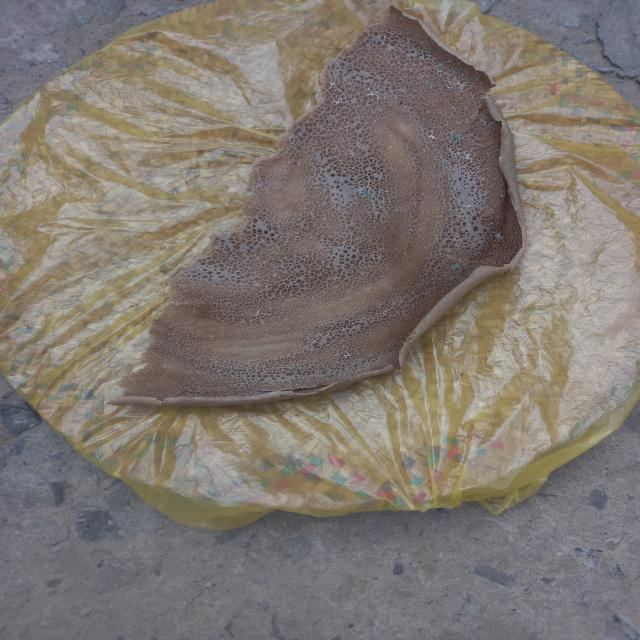injera_mold: (443, 78, 467, 92), (365, 87, 384, 101), (456, 151, 474, 164), (330, 92, 348, 104), (492, 231, 505, 242), (449, 134, 462, 143), (327, 80, 336, 90), (451, 263, 461, 270), (361, 189, 371, 196), (428, 131, 436, 139), (421, 52, 430, 59), (378, 189, 388, 193), (440, 161, 447, 166), (426, 82, 433, 87), (395, 208, 403, 212), (488, 122, 496, 126), (452, 69, 458, 74), (344, 353, 351, 357), (422, 148, 427, 153), (387, 145, 393, 149), (410, 50, 416, 54), (466, 76, 471, 80), (477, 241, 481, 245), (467, 204, 471, 208), (420, 74, 424, 78), (426, 74, 430, 78), (378, 35, 383, 38), (268, 377, 272, 380), (475, 101, 479, 104), (474, 71, 478, 74), (461, 73, 464, 76), (491, 222, 494, 225), (484, 197, 488, 199), (501, 194, 503, 197), (383, 42, 385, 45), (314, 177, 317, 179), (268, 382, 270, 384), (478, 76, 480, 78), (400, 91, 402, 93), (410, 81, 412, 83), (362, 47, 364, 49), (317, 179, 319, 181), (232, 390, 234, 391), (276, 371, 278, 372), (274, 374, 276, 375), (458, 189, 460, 190), (470, 82, 472, 83), (472, 83, 474, 84), (475, 78, 477, 78)
